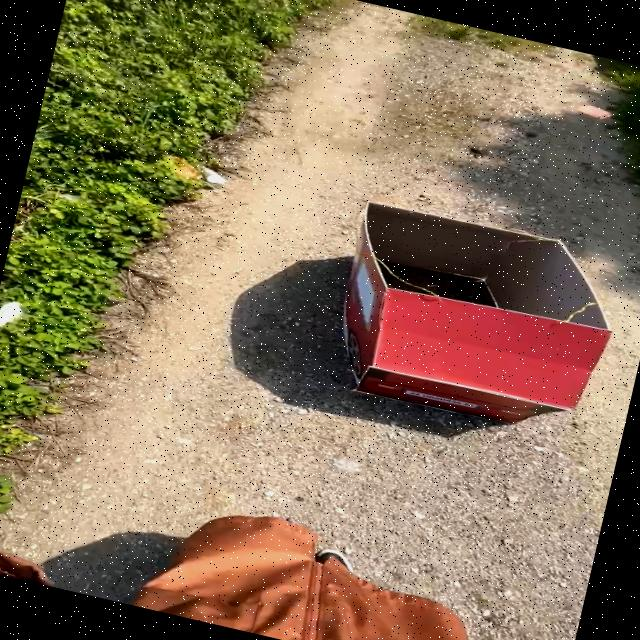red_car: (304, 176, 640, 465)
